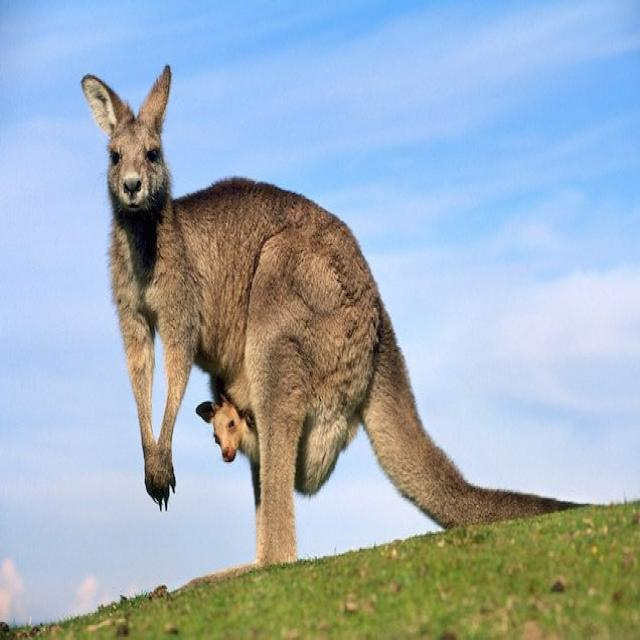Kangaroo: (72, 38, 607, 572), (186, 376, 311, 506)
